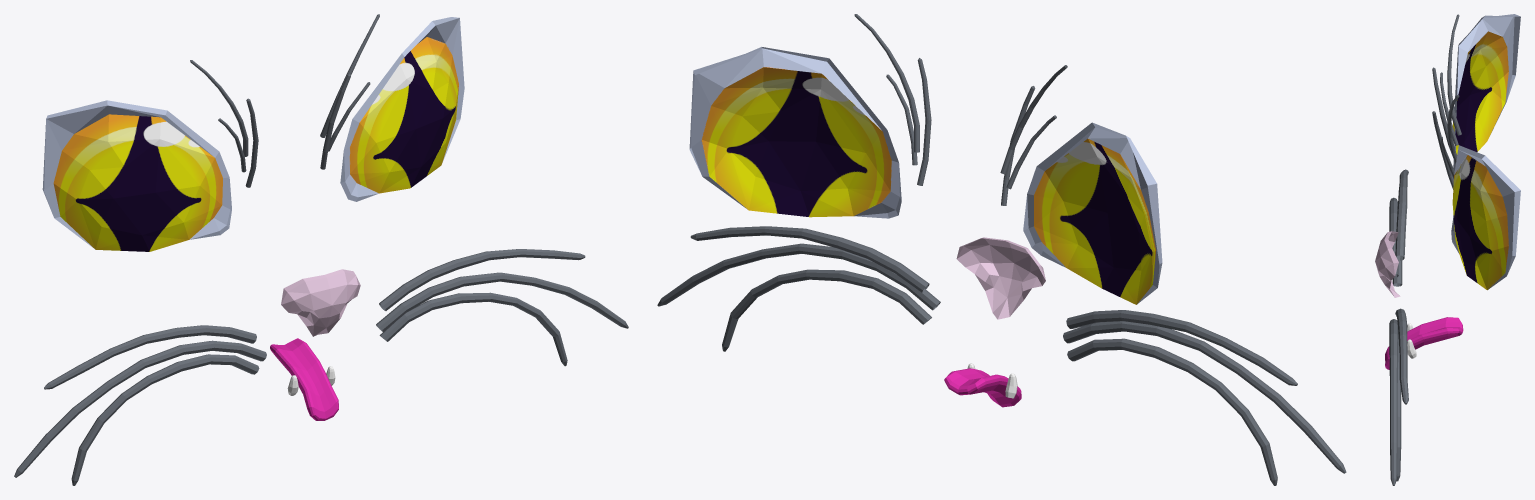
Rendered from cathead-lowpoly-extras.glb.
3 renders of one model, left to right at view 1: azimuth 30°, elevation 25°; view 2: azimuth 150°, elevation 25°; view 3: azimuth 270°, elevation 25°, orthographic. The views are drawn at different scales.
Visible parts, largest first — view 1: cathead-lowpoly-extras; view 2: cathead-lowpoly-extras; view 3: cathead-lowpoly-extras.
Part boxes in pixels (x1=…): cathead-lowpoly-extras: x1=14, y1=14, x2=628, y2=485; cathead-lowpoly-extras: x1=657, y1=14, x2=1346, y2=485; cathead-lowpoly-extras: x1=1375, y1=14, x2=1520, y2=485.
Bounding box in the file's own units: 1.74 × 0.981 × 0.4048.
1 material, 1 textured.
